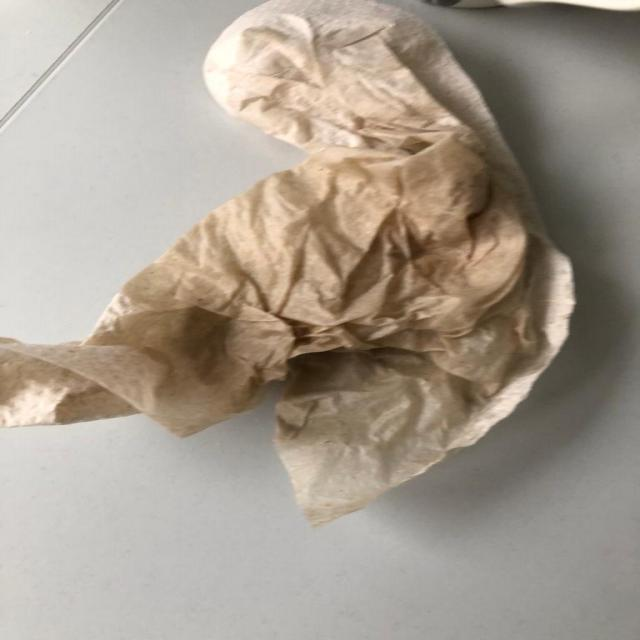kitchen paper: (0, 0, 581, 534)
